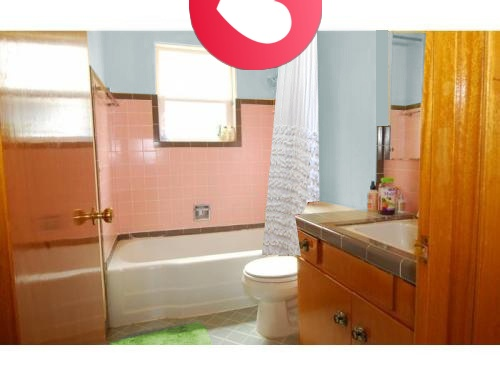love: (189, 0, 322, 70)
